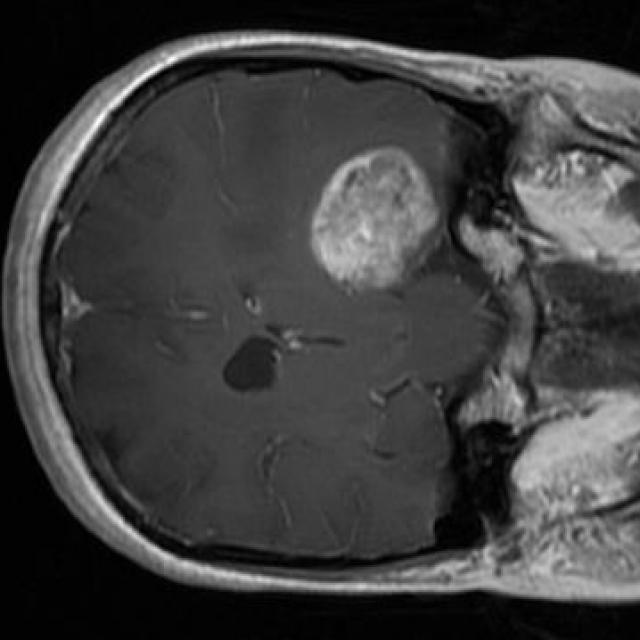glioma: (308, 146, 440, 294)
